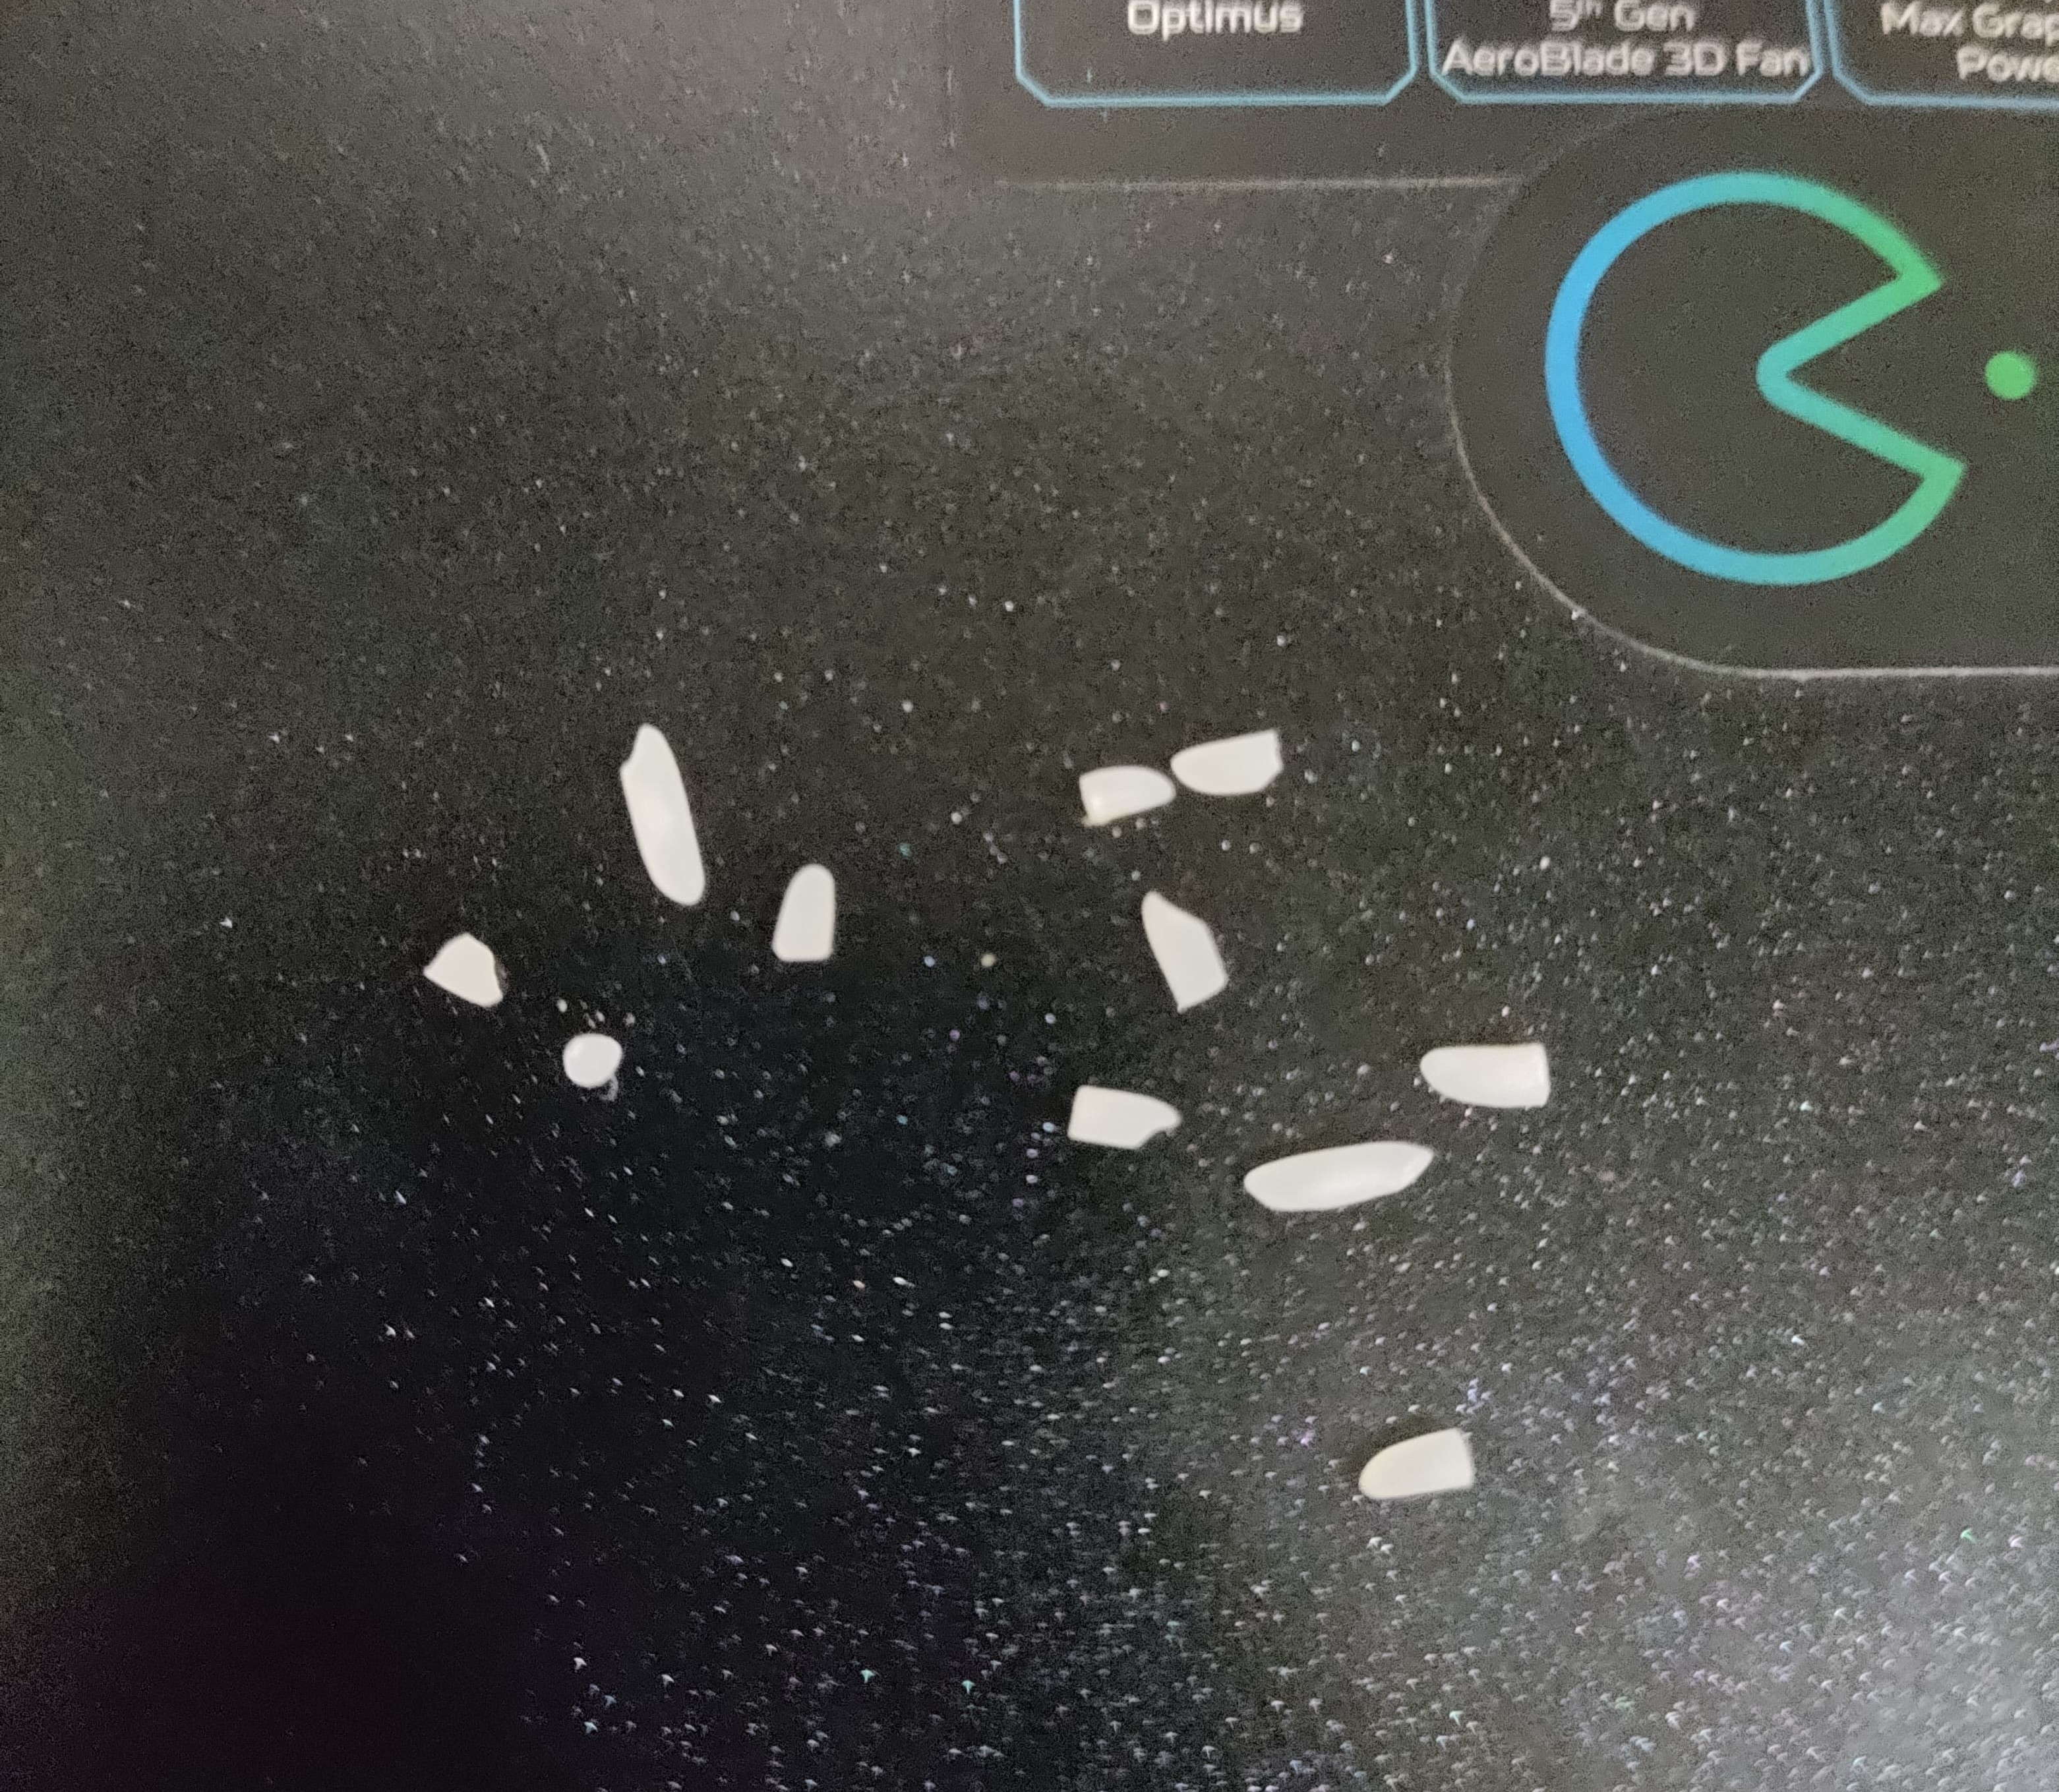broken_grain: (1121, 883, 1241, 1019), (1415, 1036, 1583, 1131), (1346, 1423, 1503, 1524), (1056, 1065, 1193, 1172), (1162, 724, 1299, 812), (761, 851, 844, 977), (415, 916, 509, 1021), (1068, 755, 1182, 827), (565, 1024, 632, 1107)
complete_grain: (608, 717, 733, 928), (1241, 1133, 1451, 1236)
